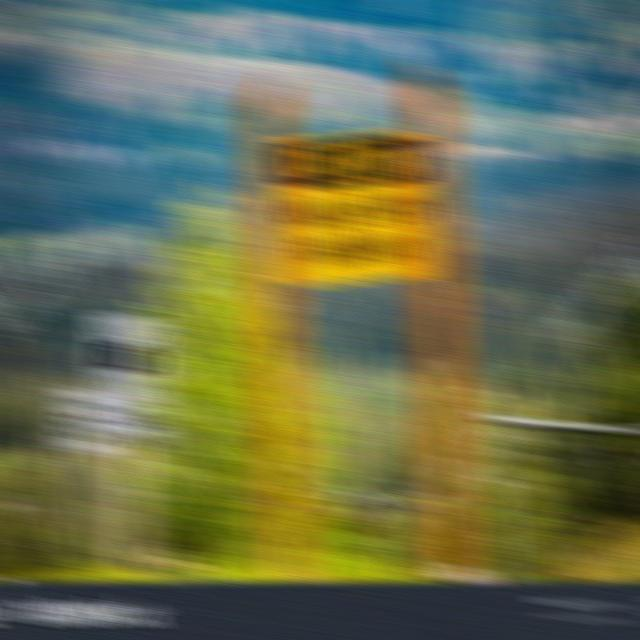speedLimit50: (61, 391, 115, 456)
